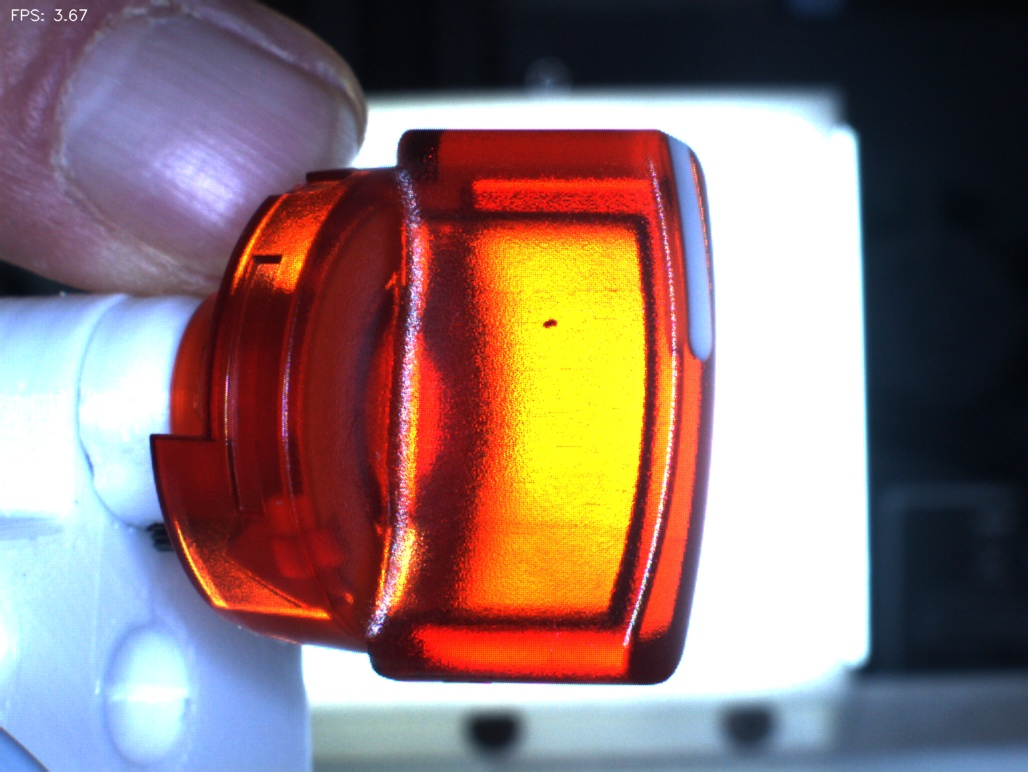PointNoir: (509, 269, 602, 378)
